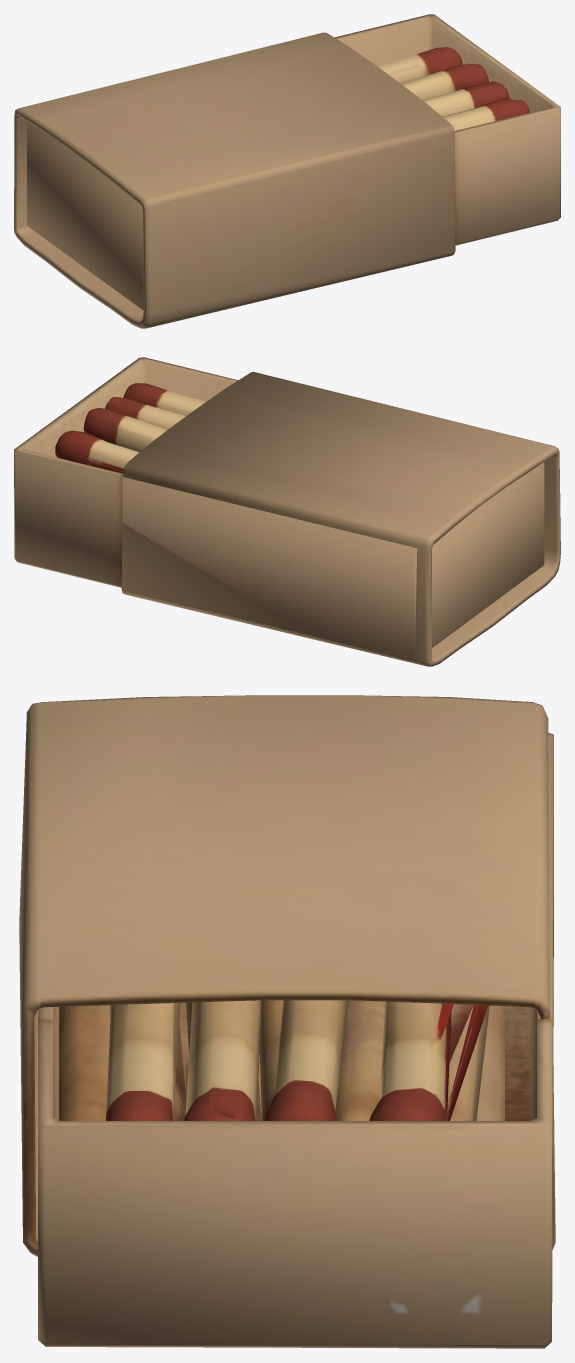
The picture shows the model from 3 angles, top to bottom: view 1: azimuth 30°, elevation 25°; view 2: azimuth 150°, elevation 25°; view 3: azimuth 270°, elevation 25°; orthographic projection. The views are drawn at different scales.
Visible parts, largest first — view 1: tripo_node_a1bd9ec1-4527-41dd-a9d6-a25654c75692; view 2: tripo_node_a1bd9ec1-4527-41dd-a9d6-a25654c75692; view 3: tripo_node_a1bd9ec1-4527-41dd-a9d6-a25654c75692.
Part boxes in pixels (x1,y1,x2,y2): tripo_node_a1bd9ec1-4527-41dd-a9d6-a25654c75692: (14,14,560,328); tripo_node_a1bd9ec1-4527-41dd-a9d6-a25654c75692: (14,357,560,666); tripo_node_a1bd9ec1-4527-41dd-a9d6-a25654c75692: (19,695,555,1348).
Size of the model in its own units: 0.998 by 0.3145 by 0.5566.
Materials: 1 (1 with a texture image).
